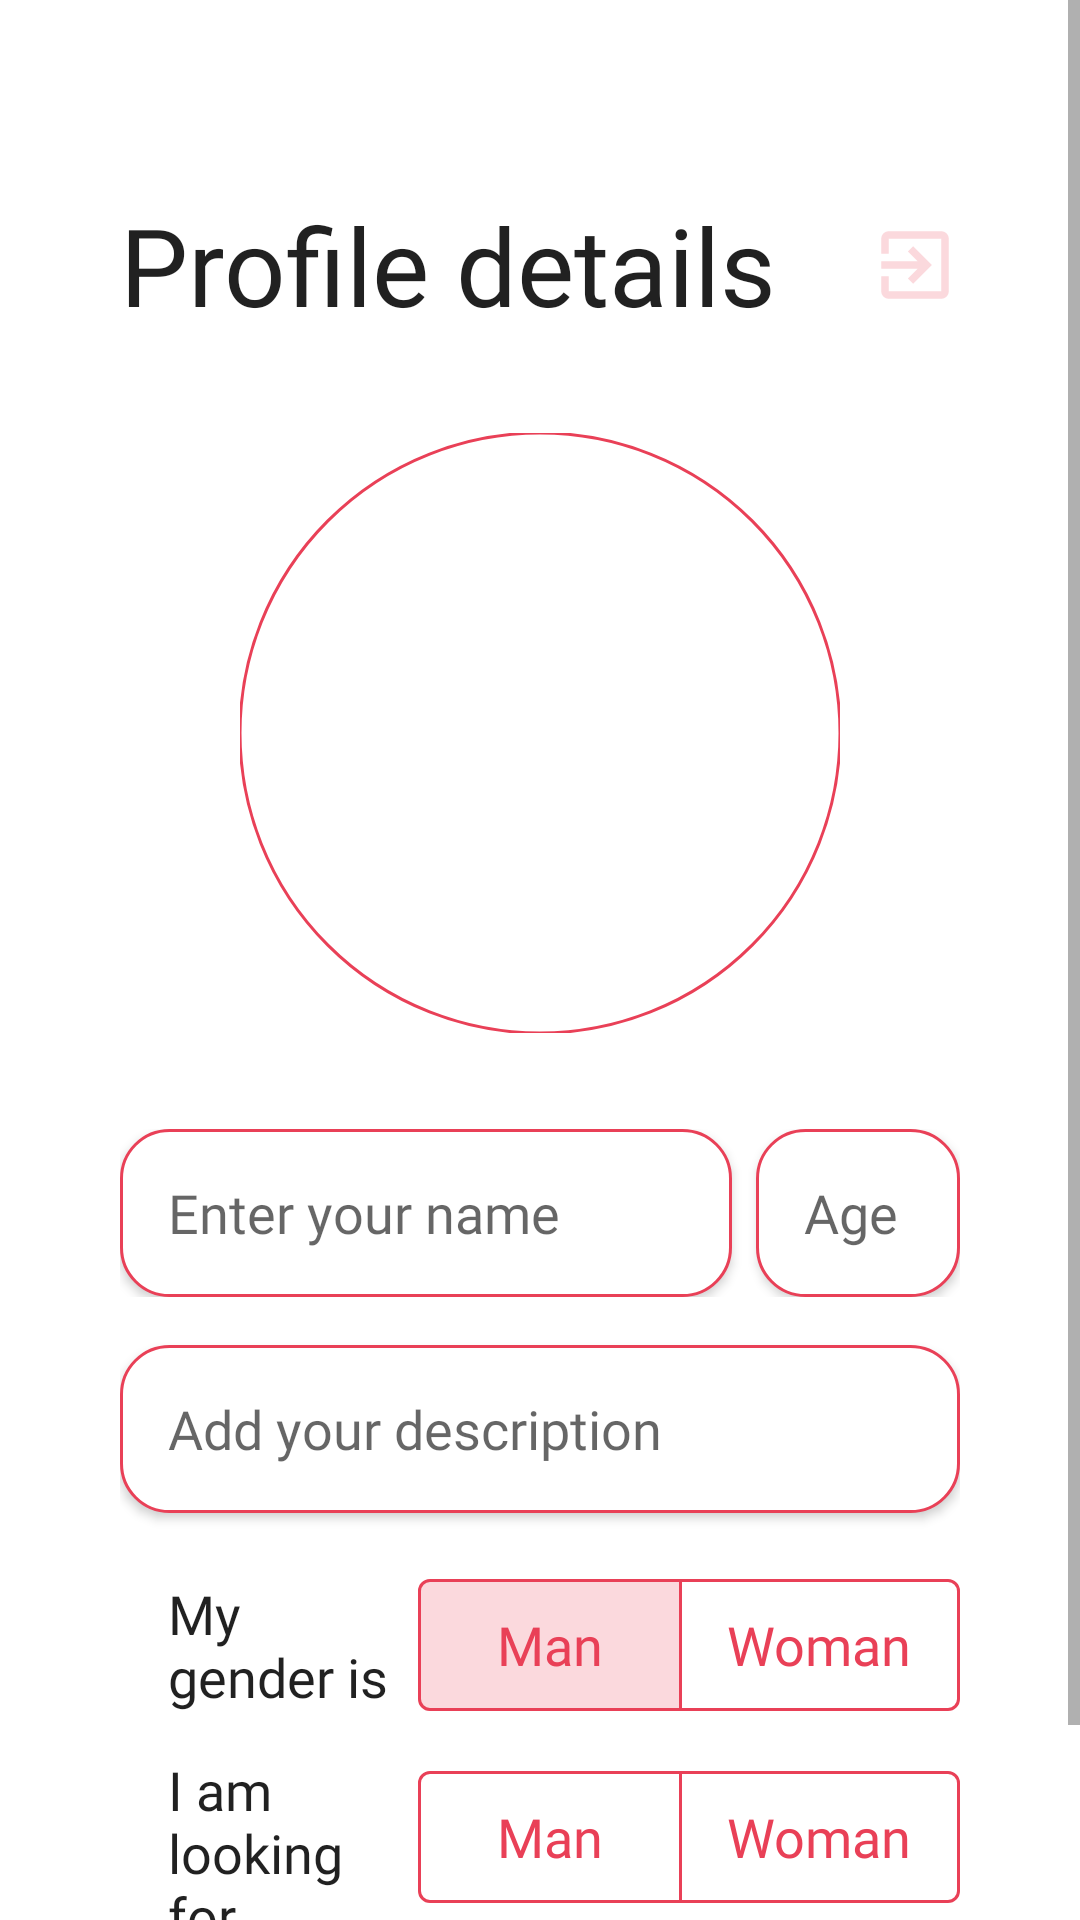

Point at icon controls on the screen. Image size 1080w x 1920h, points as point (x, y).
sonder exit the app: point (915, 265)
